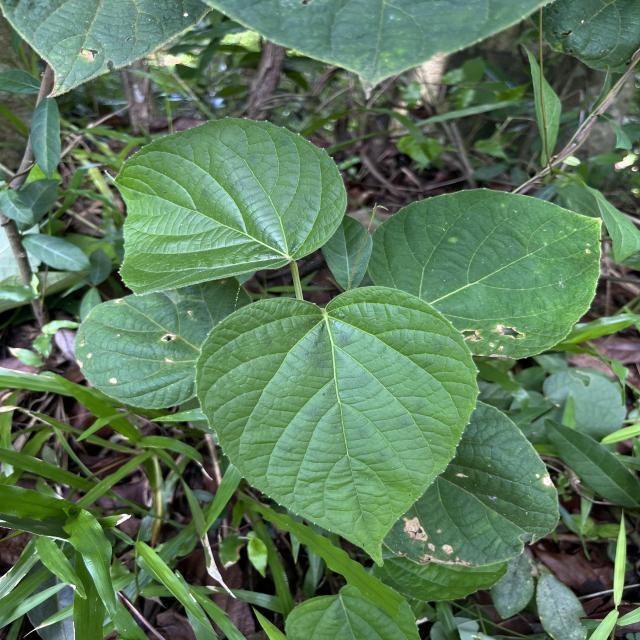Clerodendrum infortunatum: (193, 284, 484, 570), (103, 115, 349, 298), (368, 185, 607, 362)
